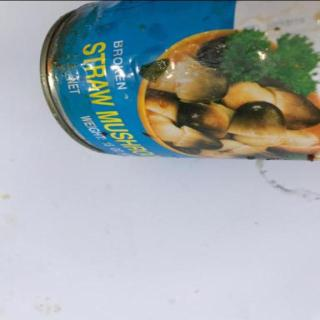Anorganik: (33, 1, 320, 169)
